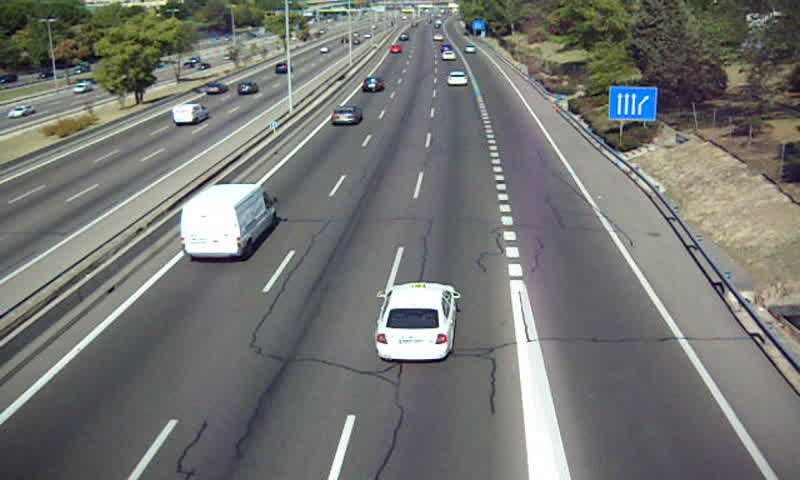car: (376, 282, 456, 360), (331, 106, 363, 126), (361, 76, 384, 95), (445, 71, 469, 87)
van: (179, 184, 274, 262)
